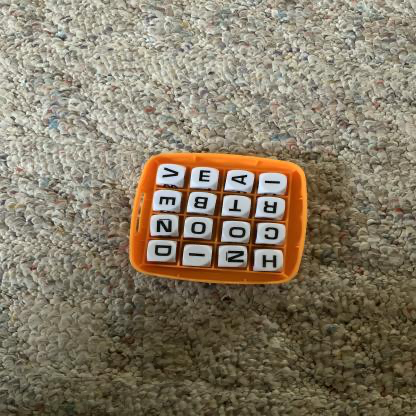a: (229, 171, 255, 191)
b: (190, 193, 217, 213)
c: (259, 224, 287, 245)
d: (149, 242, 177, 263)
e: (155, 191, 182, 211), (192, 169, 219, 188)
h: (257, 250, 284, 272)
i: (184, 246, 213, 267), (261, 174, 287, 193)
n: (220, 247, 248, 268), (152, 215, 179, 236)
o: (224, 222, 251, 243), (187, 218, 213, 239)
r: (258, 198, 286, 218)
t: (225, 197, 251, 217)
v: (159, 164, 185, 185)
